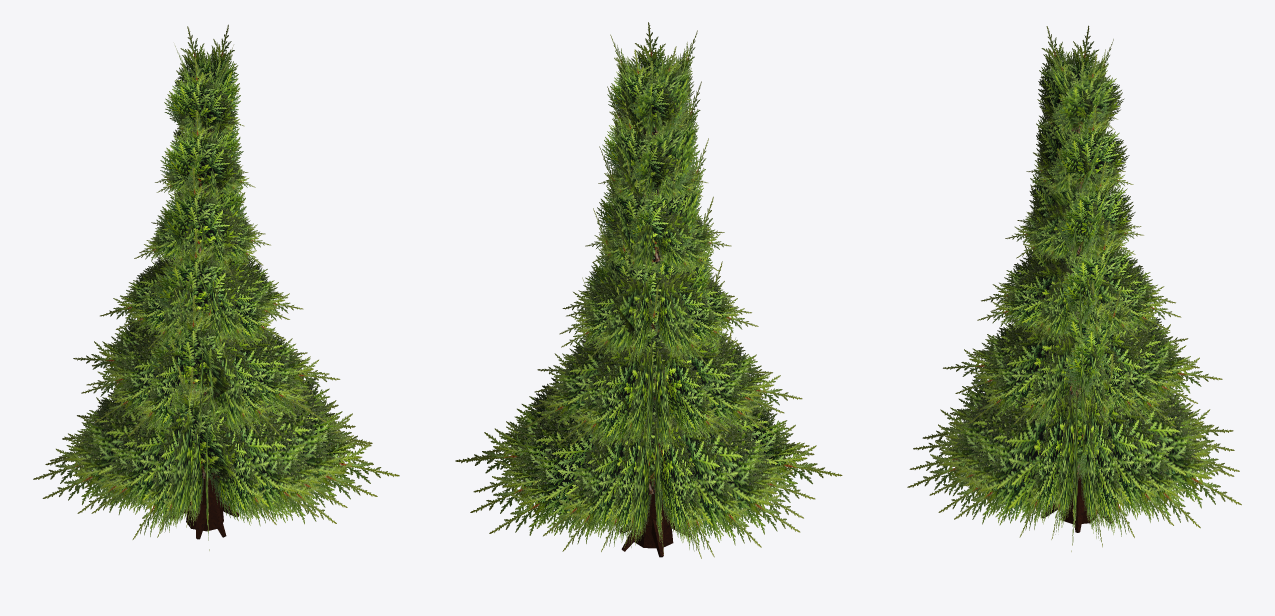
File: tree_pine_03_real.gltf
3 views of the same model, side by side, from view 1: azimuth 30°, elevation 25°; view 2: azimuth 150°, elevation 25°; view 3: azimuth 270°, elevation 25° (orthographic). The views are drawn at different scales.
Parts seen in each view (by area): view 1: tree_pine_03; view 2: tree_pine_03; view 3: tree_pine_03.
Boxes of the visible parts, box(x1,y1,x2,y2) form: tree_pine_03: box(33, 24, 399, 550); tree_pine_03: box(455, 22, 842, 558); tree_pine_03: box(907, 25, 1241, 551).
Bounding box in the file's own units: 6.29 × 8.52 × 5.79.
2 materials, 2 textured.
